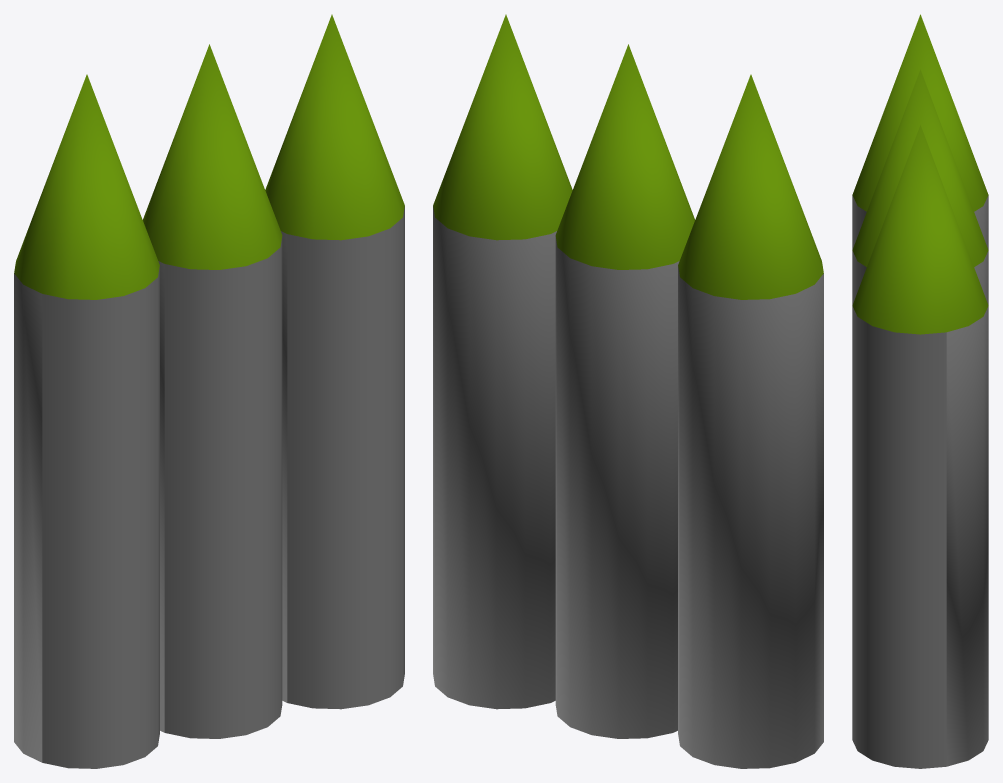
File: BulletPrefab.fbx
3 views of the same model, side by side, from view 1: azimuth 30°, elevation 25°; view 2: azimuth 150°, elevation 25°; view 3: azimuth 270°, elevation 25° (orthographic). The views are drawn at different scales.
Visible parts, largest first — view 1: Cylinder.001, Cylinder, Cylinder.002; view 2: Cylinder.001, Cylinder, Cylinder.002; view 3: Cylinder.002, Cylinder, Cylinder.001.
Part boxes in pixels (left/top/right/bottom): Cylinder.001: left=14, top=74, right=159, bottom=768; Cylinder: left=143, top=44, right=282, bottom=738; Cylinder.002: left=265, top=14, right=404, bottom=709; Cylinder.001: left=678, top=74, right=823, bottom=768; Cylinder: left=555, top=44, right=694, bottom=738; Cylinder.002: left=433, top=14, right=572, bottom=709; Cylinder.002: left=852, top=125, right=988, bottom=768; Cylinder: left=852, top=69, right=988, bottom=305; Cylinder.001: left=852, top=14, right=988, bottom=249.
Bounding box in the file's own units: 5.85 × 9.97 × 2.
